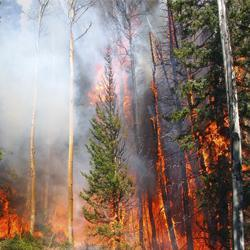fire: (136, 198, 166, 248), (197, 125, 229, 157), (0, 195, 22, 238)
